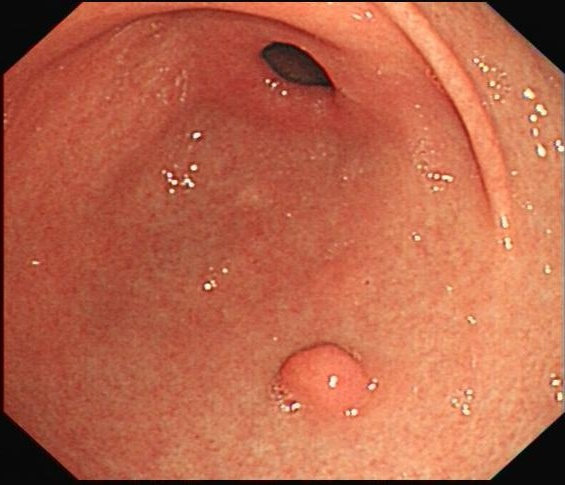Polyp: (262, 332, 382, 418)
